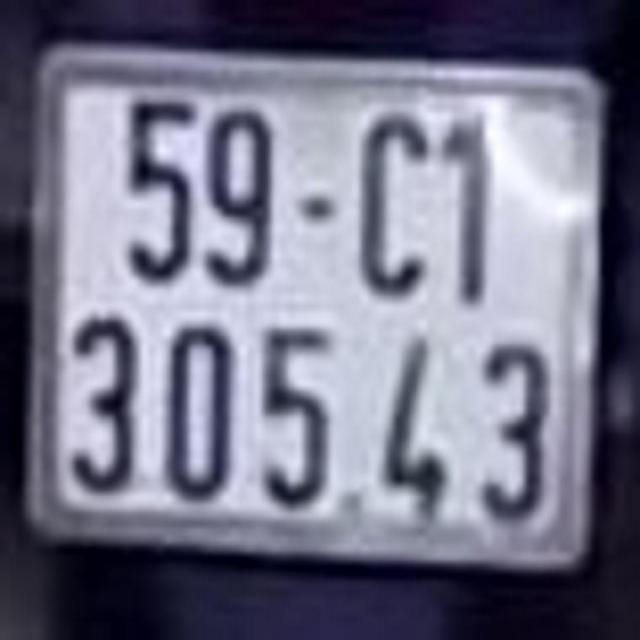0: (161, 310, 236, 500)
1: (437, 104, 500, 308)
3: (484, 327, 552, 530), (69, 306, 139, 496)
4: (383, 322, 449, 527)
5: (258, 308, 332, 508), (122, 88, 197, 284)
9: (202, 100, 276, 286)
C: (354, 98, 434, 296)
